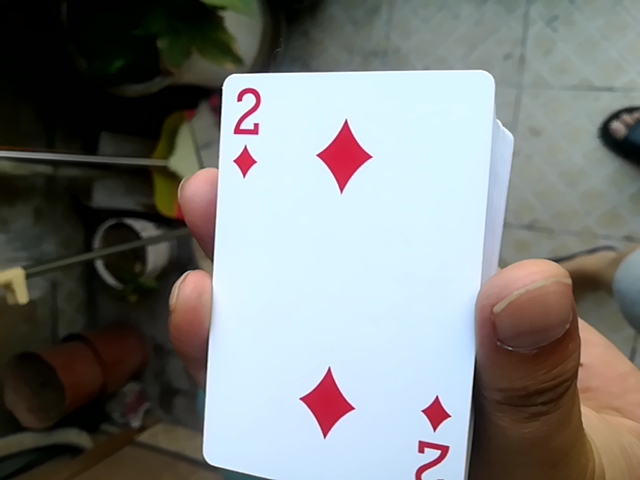fk 2: (196, 66, 481, 473)
